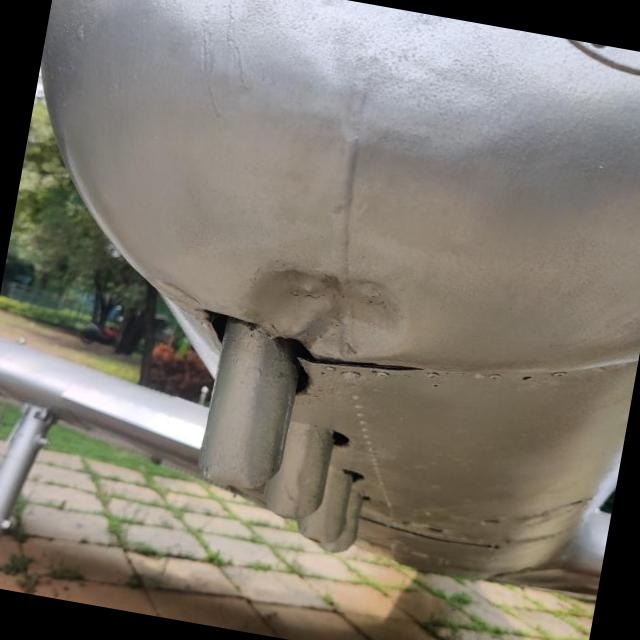Dent: (234, 269, 407, 367)
